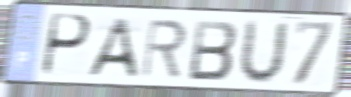7: (292, 19, 337, 88)
A: (84, 16, 140, 80)
B: (187, 18, 240, 82)
P: (38, 11, 93, 79)
R: (139, 18, 189, 81)
U: (235, 17, 291, 87)
